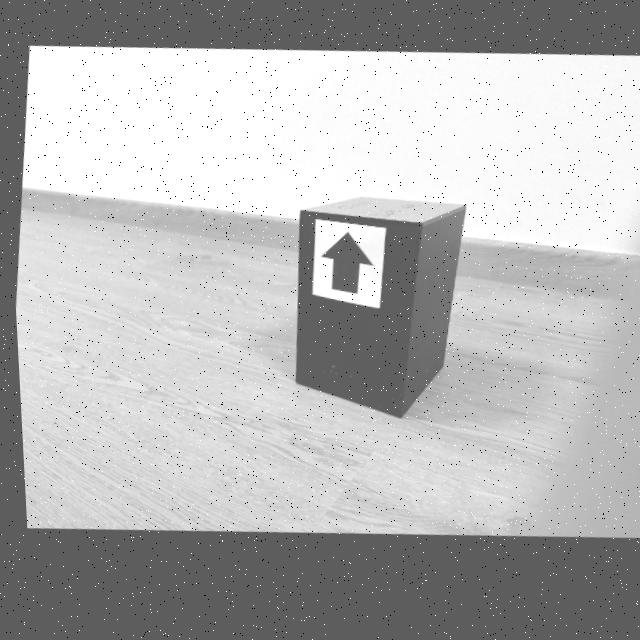UP: (317, 239, 370, 301)
